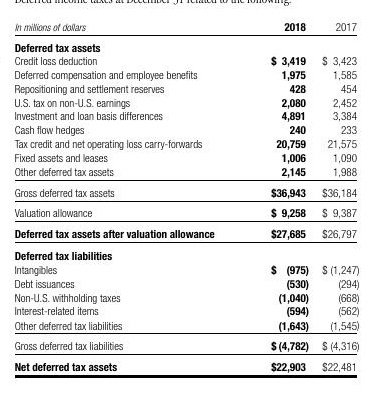table: (0, 0, 383, 399)
